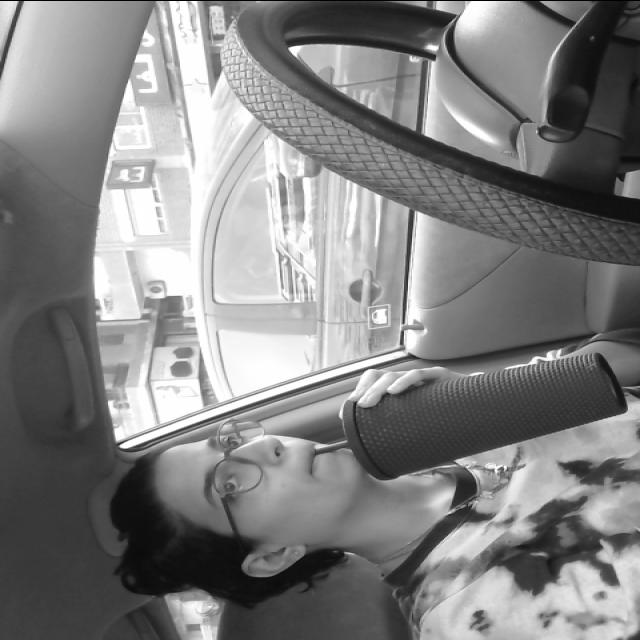drinking: (316, 355, 618, 485)
